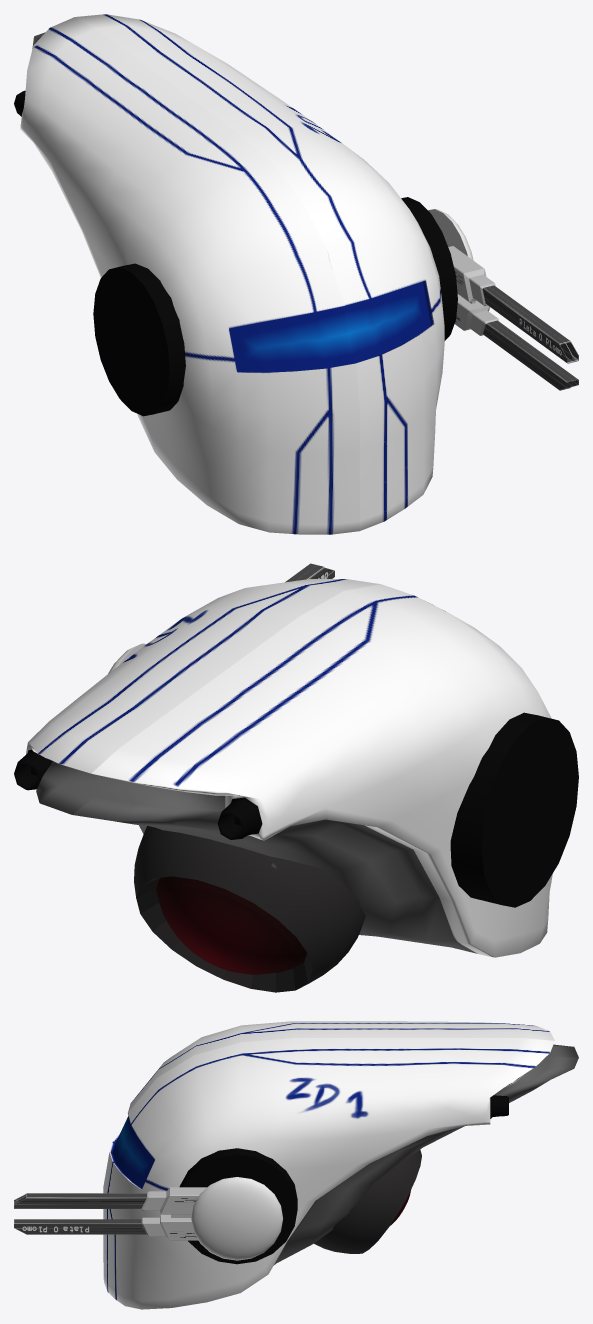
The model's file is robot1_Book.fbx.
3 views of the same model, one above another, from view 1: azimuth 30°, elevation 25°; view 2: azimuth 150°, elevation 25°; view 3: azimuth 270°, elevation 25° (orthographic). The views are drawn at different scales.
Visible parts, largest first — view 1: polySurface1, pivot1, armePt1, armePt2_1, armePt2_3, pivot2; view 2: polySurface1, reacteur, pivot1; view 3: polySurface1, pivot2, reacteur, pivot1, armePt1, armePt2_1, armePt2_3.
Boxes of the visible parts, x1,y1,x2,y2 form: polySurface1: (14, 14, 444, 534); pivot1: (93, 197, 457, 416); armePt1: (448, 246, 498, 335); armePt2_1: (482, 285, 578, 363); armePt2_3: (483, 320, 578, 390); pivot2: (428, 209, 473, 260); polySurface1: (14, 579, 552, 957); reacteur: (134, 826, 365, 992); pivot1: (450, 712, 578, 907); polySurface1: (103, 1021, 578, 1309); pivot2: (191, 1177, 283, 1260); reacteur: (314, 1150, 421, 1253); pivot1: (179, 1148, 297, 1264); armePt1: (141, 1187, 206, 1240); armePt2_1: (14, 1193, 146, 1208); armePt2_3: (14, 1219, 146, 1234).
Bounding box in the file's own units: 10.4 × 9.38 × 19.64.
Materials: 6 (4 with a texture image).
